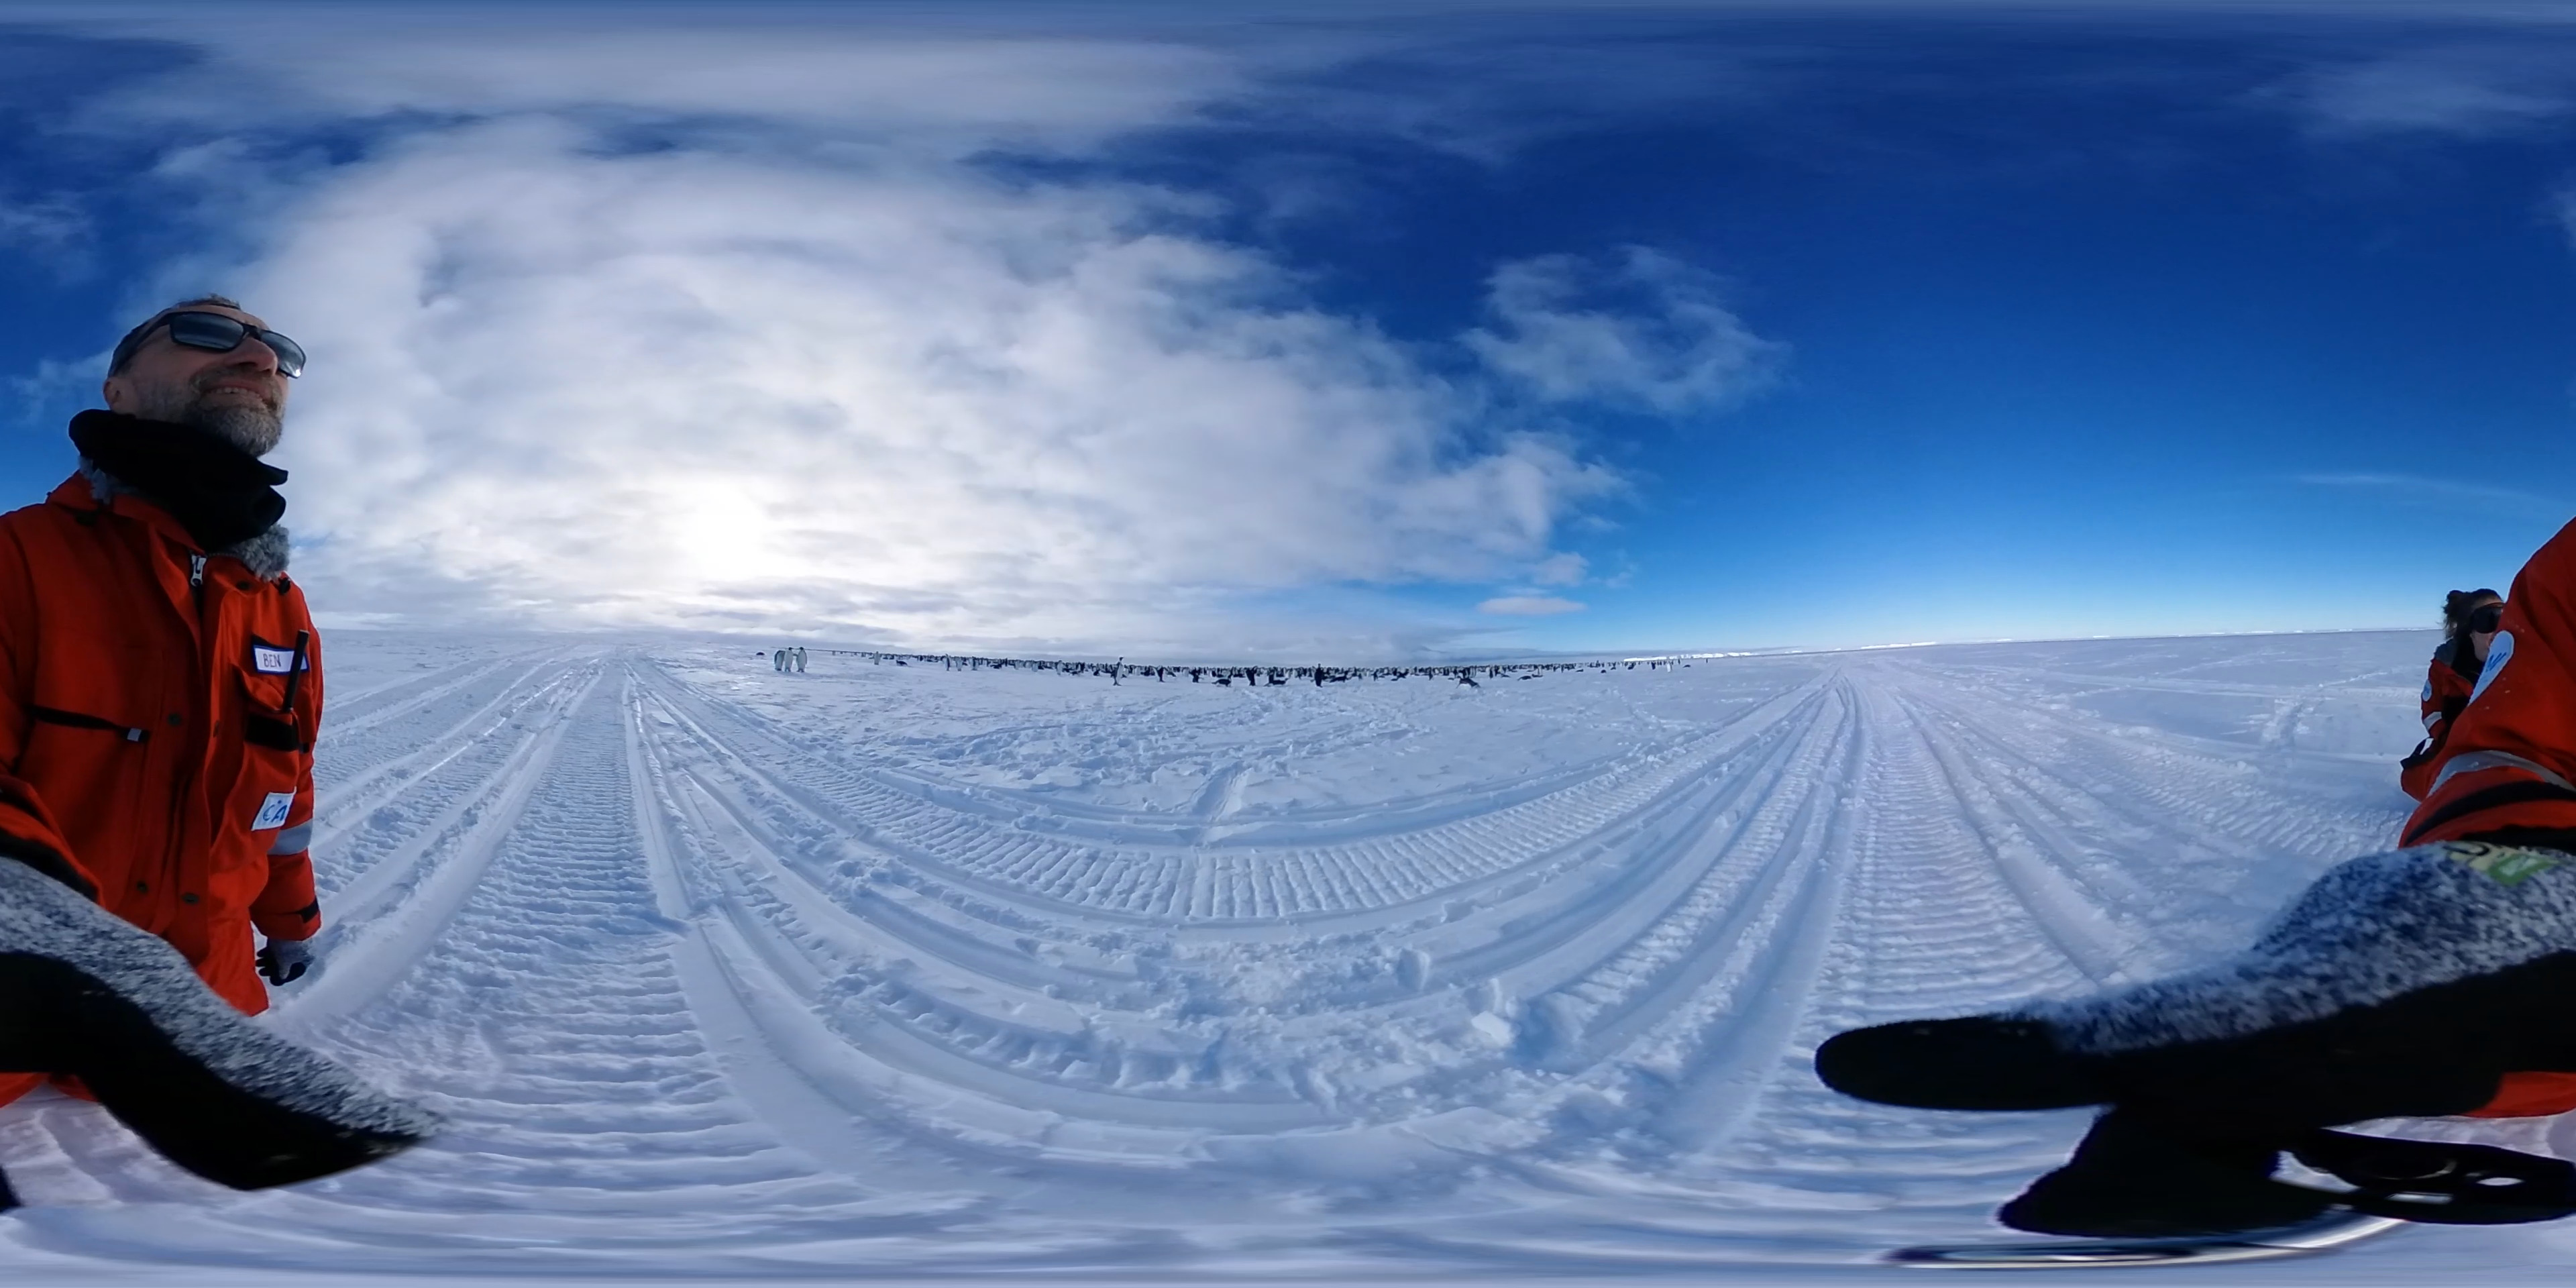adult_standing_penguin: (1112, 659, 1129, 688), (782, 646, 795, 677), (772, 647, 787, 674), (797, 646, 810, 674)
adult_toboggan_penguin: (1456, 674, 1482, 693)
researcher: (3, 273, 333, 1198), (2397, 504, 2576, 1184)
